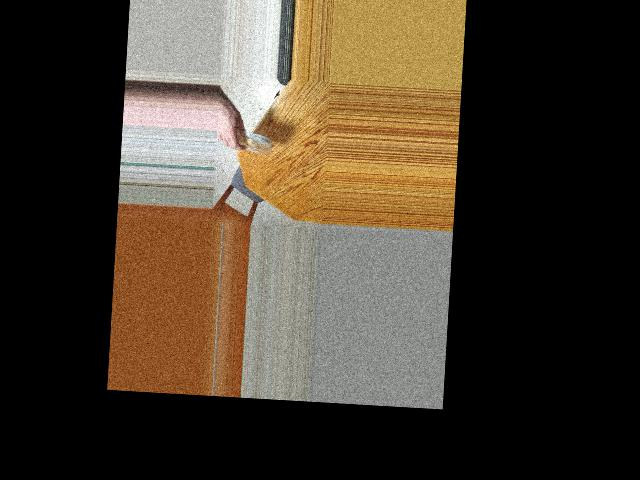cheese: (236, 123, 270, 155)
